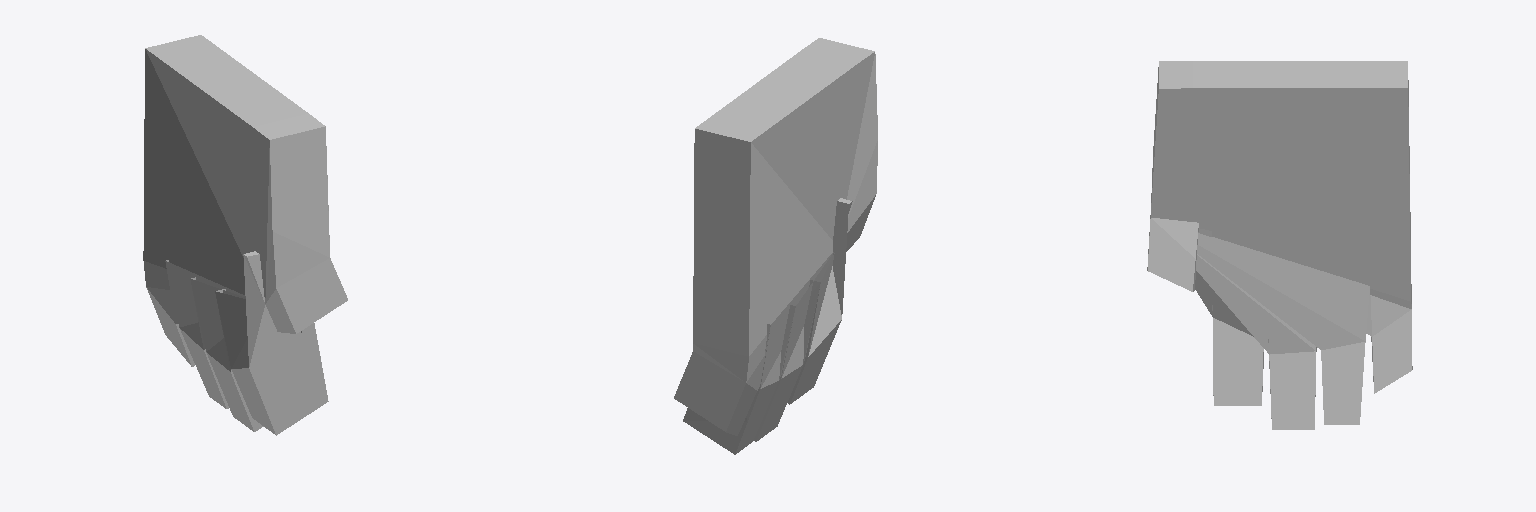
File: right_hand.obj
3 views of the same model, side by side, from view 1: azimuth 30°, elevation 25°; view 2: azimuth 150°, elevation 25°; view 3: azimuth 270°, elevation 25° (orthographic).
Visible parts, largest first — view 1: Cube.001; view 2: Cube.001; view 3: Cube.001.
Boxes of the visible parts, <box> form: Cube.001: <box>143,35,347,435</box>; Cube.001: <box>674,38,877,454</box>; Cube.001: <box>1147,61,1412,429</box>.
Bounding box in the file's own units: 0.4481 × 1.57 × 1.1.